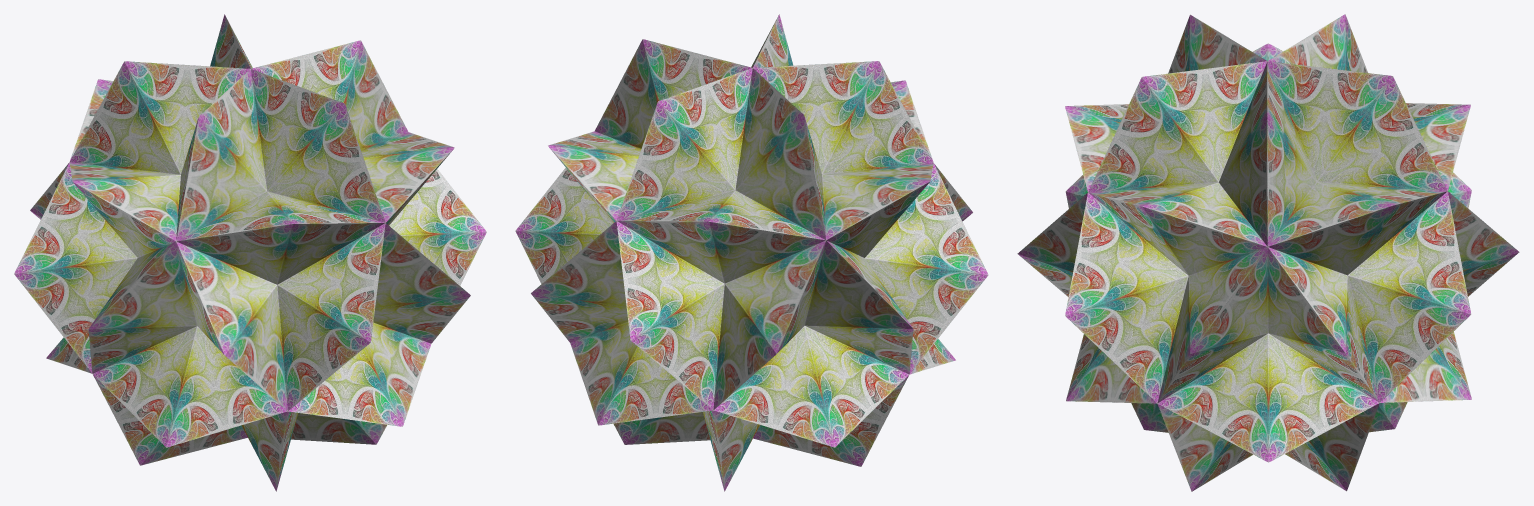
The model's file is Mobius120a_5.obj.
3 renders of one model, left to right at view 1: azimuth 30°, elevation 25°; view 2: azimuth 150°, elevation 25°; view 3: azimuth 270°, elevation 25°, orthographic. The views are drawn at different scales.
Bounding box in the file's own units: 3.62 × 3.25 × 3.8.
1 material, 1 textured.
